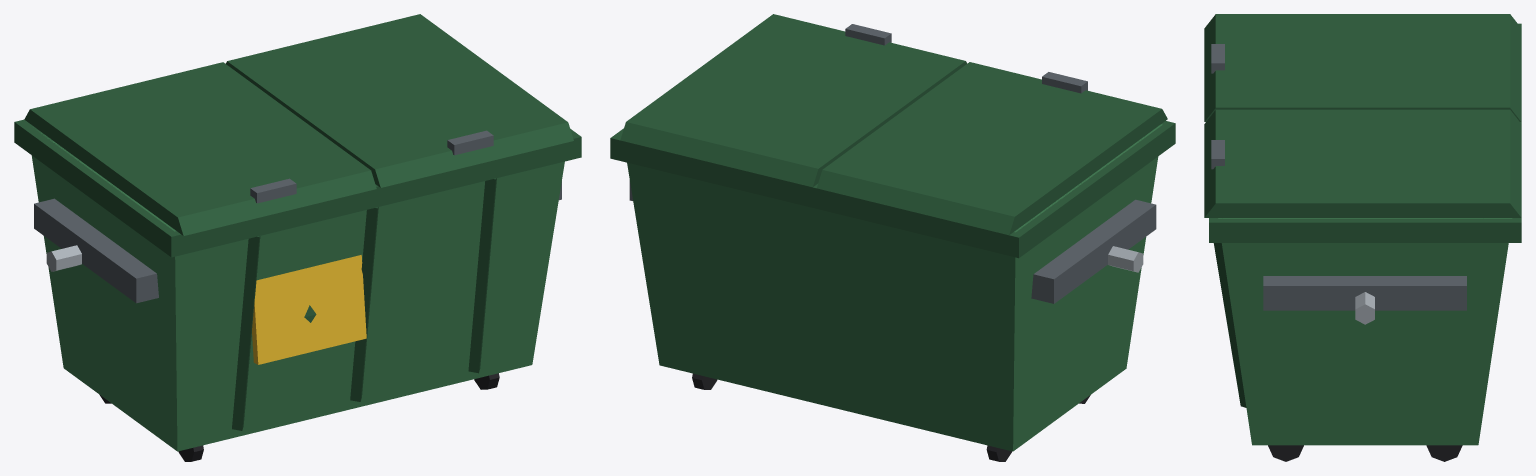
Rendered from contenedor.glb.
3 renders of one model, left to right at view 1: azimuth 30°, elevation 25°; view 2: azimuth 150°, elevation 25°; view 3: azimuth 270°, elevation 25°, orthographic.
Visible parts, largest first — view 1: contenedor_contenedor, tapa_izq_contenedor_osc, tapa_der_contenedor_osc, contenedor_contenedor_osc, contenedor_lazo_amarillo, contenedor_metal_osc, tapa_izq_metal_osc, tapa_der_metal_osc, contenedor_metal; view 2: contenedor_contenedor, tapa_izq_contenedor_osc, tapa_der_contenedor_osc, contenedor_contenedor_osc, contenedor_metal_osc, contenedor_metal, tapa_der_metal_osc, tapa_izq_metal_osc; view 3: contenedor_contenedor, tapa_der_contenedor_osc, tapa_izq_contenedor_osc, contenedor_contenedor_osc, contenedor_metal_osc, contenedor_metal, rueda_td_goma, rueda_dd_goma, tapa_izq_metal_osc, tapa_der_metal_osc.
Boxes of the visible parts, x1=… form: contenedor_contenedor: x1=31, y1=126, x2=564, y2=451; tapa_izq_contenedor_osc: x1=24, y1=62, x2=376, y2=235; tapa_der_contenedor_osc: x1=225, y1=14, x2=573, y2=187; contenedor_contenedor_osc: x1=14, y1=119, x2=581, y2=430; contenedor_lazo_amarillo: x1=252, y1=255, x2=366, y2=364; contenedor_metal_osc: x1=34, y1=181, x2=561, y2=303; tapa_izq_metal_osc: x1=250, y1=178, x2=296, y2=203; tapa_der_metal_osc: x1=447, y1=130, x2=493, y2=155; contenedor_metal: x1=46, y1=245, x2=81, y2=271; contenedor_contenedor: x1=627, y1=124, x2=1162, y2=451; tapa_izq_contenedor_osc: x1=817, y1=62, x2=1167, y2=235; tapa_der_contenedor_osc: x1=620, y1=14, x2=967, y2=187; contenedor_contenedor_osc: x1=610, y1=121, x2=1175, y2=258; contenedor_metal_osc: x1=629, y1=180, x2=1156, y2=303; contenedor_metal: x1=1108, y1=246, x2=1143, y2=272; tapa_der_metal_osc: x1=845, y1=24, x2=891, y2=45; tapa_izq_metal_osc: x1=1042, y1=72, x2=1087, y2=93; contenedor_contenedor: x1=1218, y1=218, x2=1512, y2=445; tapa_der_contenedor_osc: x1=1204, y1=109, x2=1521, y2=217; tapa_izq_contenedor_osc: x1=1204, y1=14, x2=1521, y2=121; contenedor_contenedor_osc: x1=1209, y1=23, x2=1521, y2=407; contenedor_metal_osc: x1=1263, y1=276, x2=1466, y2=310; contenedor_metal: x1=1355, y1=292, x2=1374, y2=324; rueda_td_goma: x1=1426, y1=445, x2=1462, y2=461; rueda_dd_goma: x1=1268, y1=445, x2=1303, y2=461; tapa_izq_metal_osc: x1=1211, y1=44, x2=1224, y2=73; tapa_der_metal_osc: x1=1211, y1=140, x2=1224, y2=169.
Bounding box in the file's own units: 2.5 × 1.39 × 1.4.
